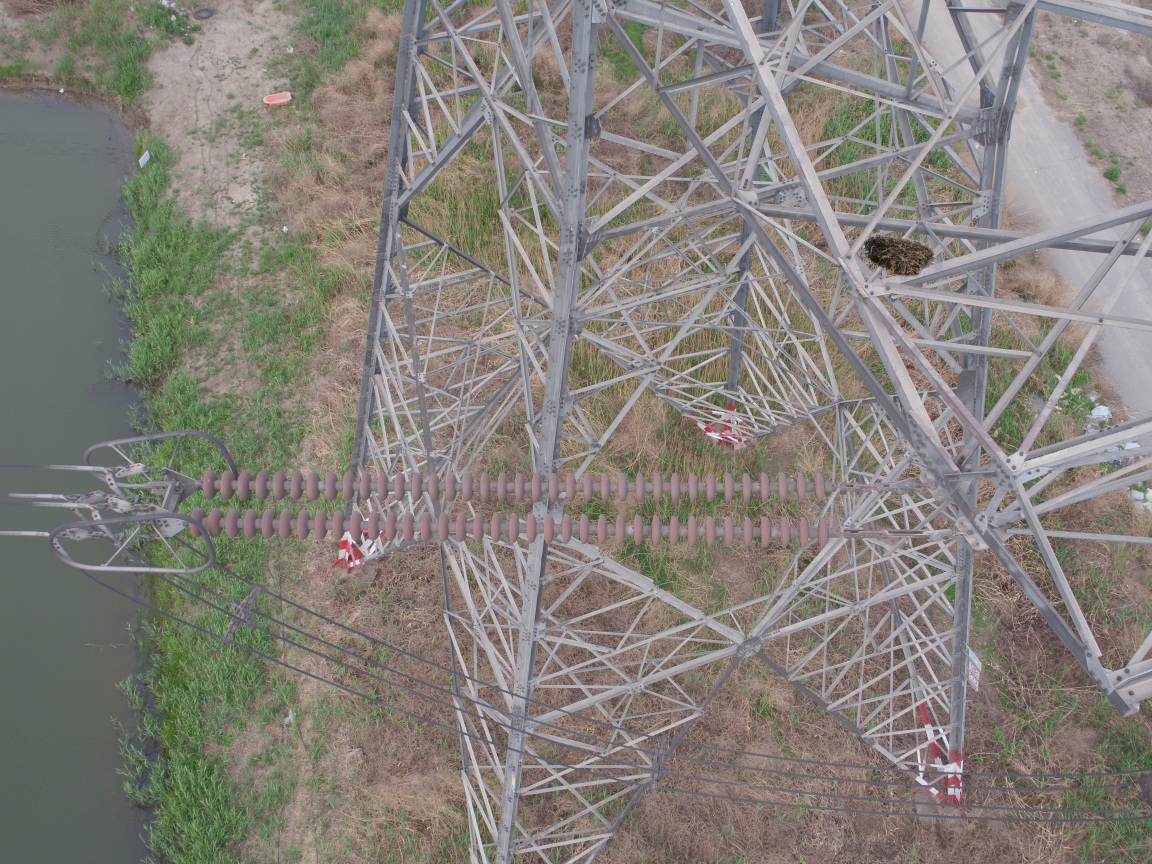nest: (863, 232, 935, 280)
